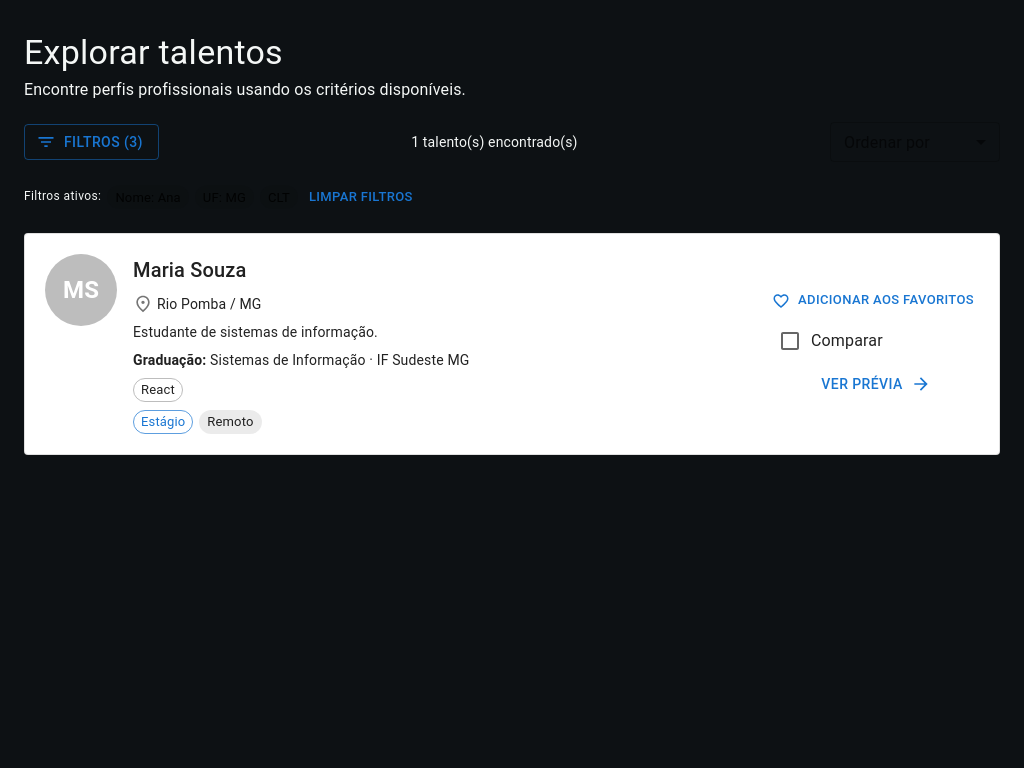
TalentDiscoveryView › filter panels › starts the panel with the criteria of the current search
Expected: the heading "Maria Souza" is shown, [133,254,246,286]
Click the button "Filtros (3)" at (91, 142), box [24,124,159,160]
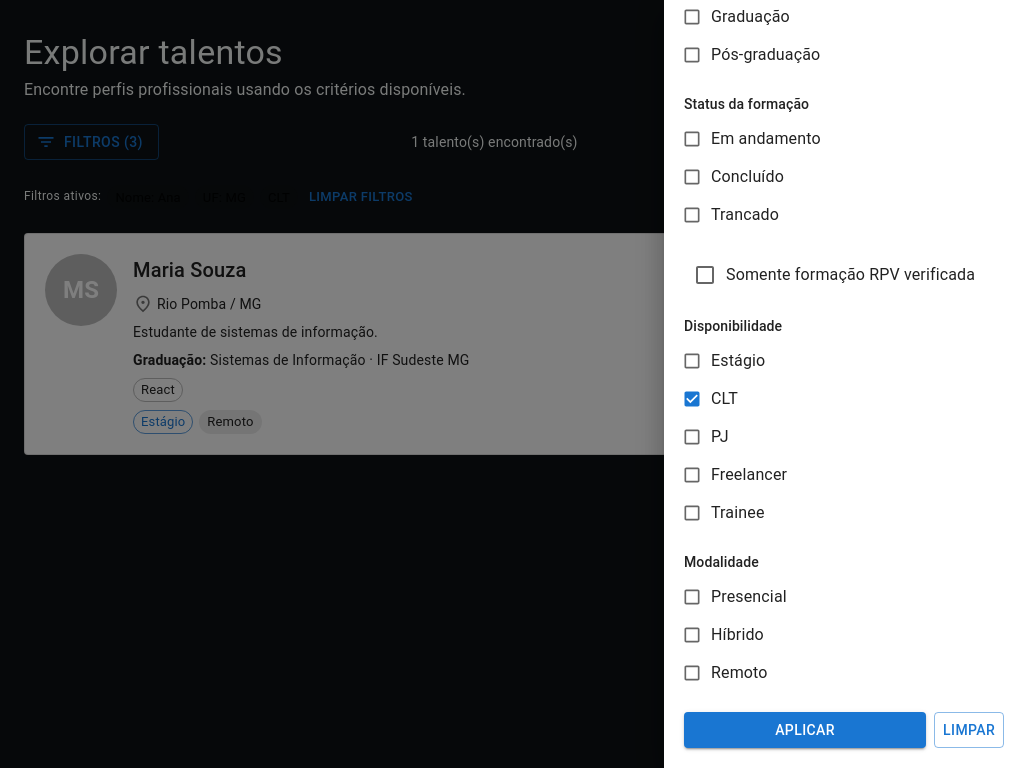
Expected: the checkbox labelled "CLT" is checked, [682,389,738,409]
